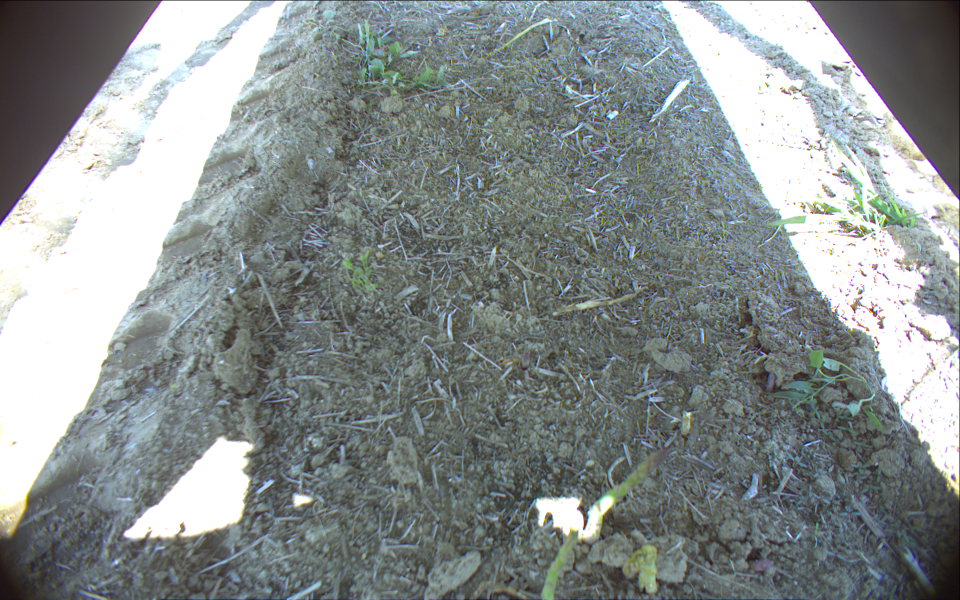aspa: (581, 446, 676, 540), (481, 18, 558, 56), (543, 527, 579, 600), (620, 542, 658, 593)
